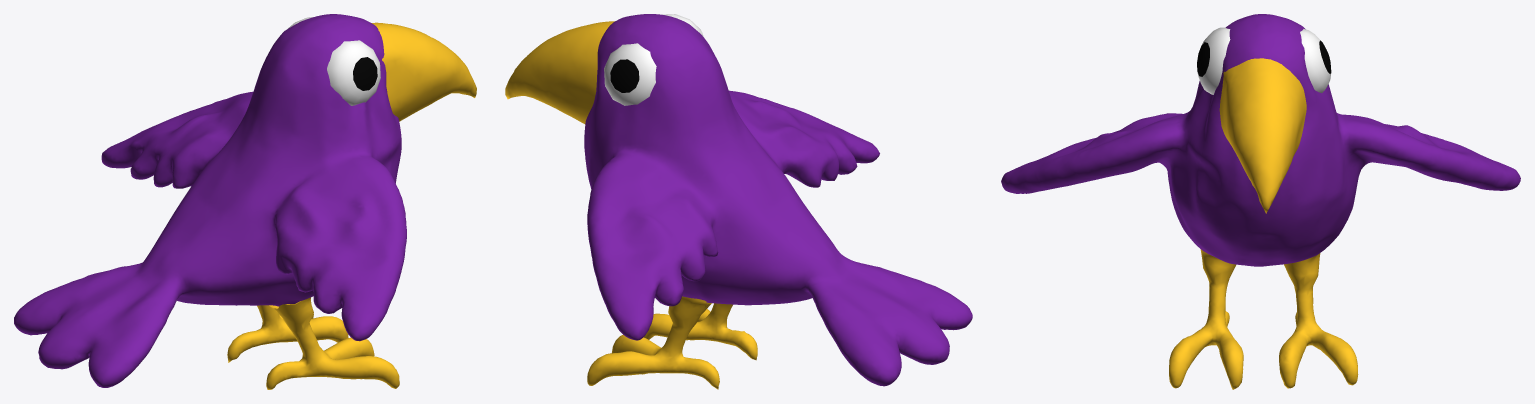
File: StupidBird.fbx
3 views of the same model, side by side, from view 1: azimuth 30°, elevation 25°; view 2: azimuth 150°, elevation 25°; view 3: azimuth 270°, elevation 25° (orthographic). The views are drawn at different scales.
Visible parts, largest first — view 1: StupidBird; view 2: StupidBird; view 3: StupidBird.
Part boxes in pixels (x1=…): StupidBird: x1=14, y1=14, x2=476, y2=389; StupidBird: x1=505, y1=14, x2=972, y2=389; StupidBird: x1=1001, y1=14, x2=1520, y2=389.
Bounding box in the file's own units: 121 × 90.6 × 120.
Materials: 1 (1 with a texture image).
